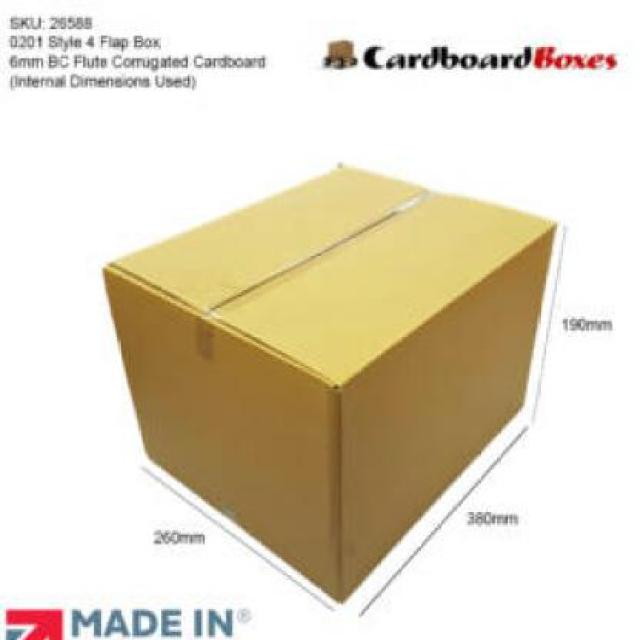box: (86, 156, 576, 623)
